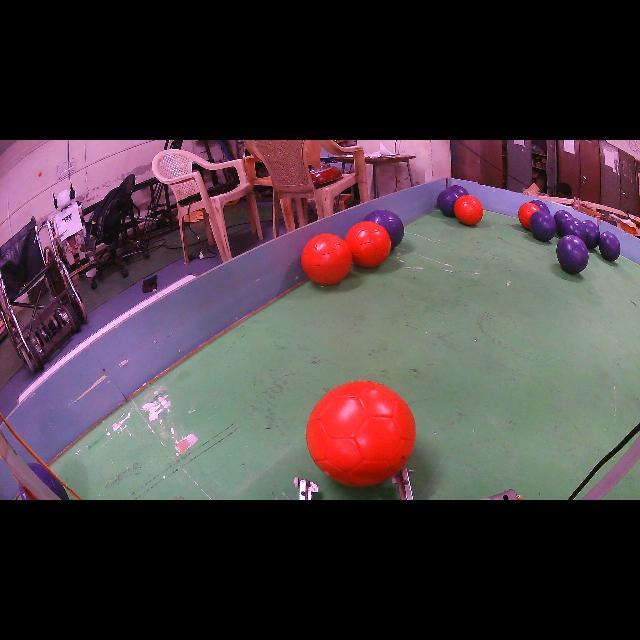P: (364, 210, 404, 248), (556, 235, 589, 274), (438, 185, 469, 218), (530, 211, 556, 241), (599, 231, 620, 261), (560, 218, 586, 241), (582, 220, 600, 250), (554, 210, 572, 235), (531, 200, 550, 212)
R: (306, 381, 416, 498), (301, 234, 352, 285), (345, 221, 391, 268), (454, 195, 484, 225), (518, 202, 540, 230)
